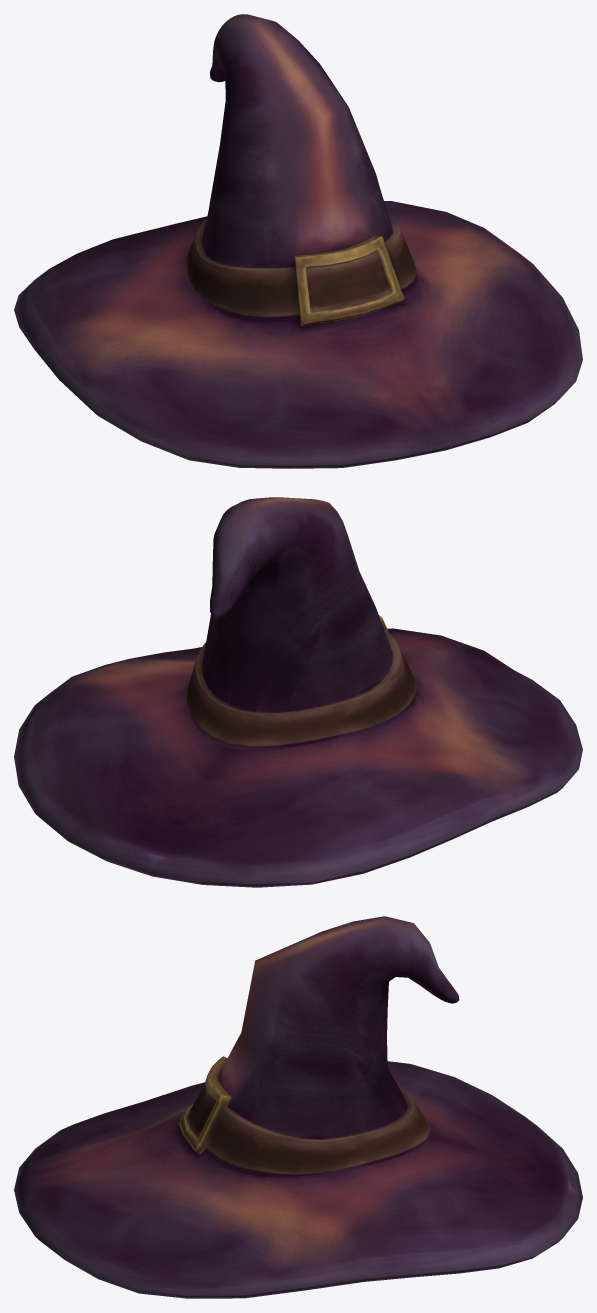
File: WitchHat.fbx
The picture shows the model from 3 angles, top to bottom: view 1: azimuth 30°, elevation 25°; view 2: azimuth 150°, elevation 25°; view 3: azimuth 270°, elevation 25°; orthographic projection. The views are drawn at different scales.
Parts seen in each view (by area): view 1: WitchHat; view 2: WitchHat; view 3: WitchHat.
Boxes of the visible parts, x1,y1,x2,y2 form: WitchHat: (14, 14, 582, 468); WitchHat: (14, 497, 582, 887); WitchHat: (14, 916, 582, 1298).
Bounding box in the file's own units: 55.76 × 33.41 × 60.94.
